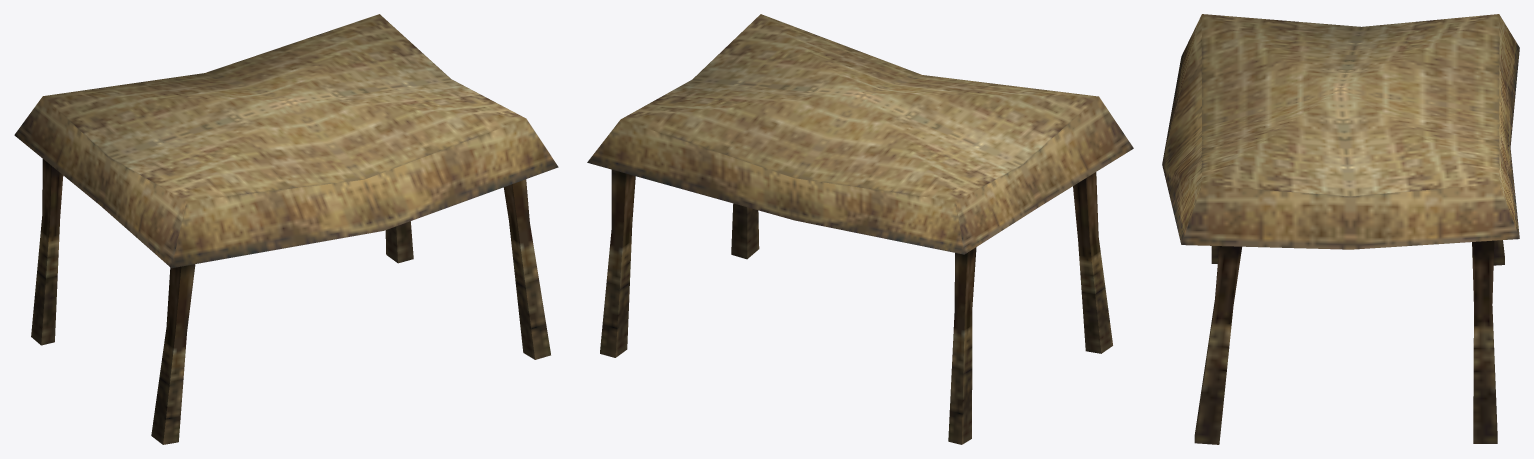
The model's file is b_general_obj_07.fbx.
3 views of the same model, side by side, from view 1: azimuth 30°, elevation 25°; view 2: azimuth 150°, elevation 25°; view 3: azimuth 270°, elevation 25° (orthographic). The views are drawn at different scales.
Parts seen in each view (by area): view 1: Object01; view 2: Object01; view 3: Object01.
Boxes of the visible parts, x1,y1,x2,y2 form: Object01: (14,14,558,444); Object01: (587,14,1133,444); Object01: (1162,14,1519,444).
Bounding box in the file's own units: 4.57 × 2.85 × 3.54.
